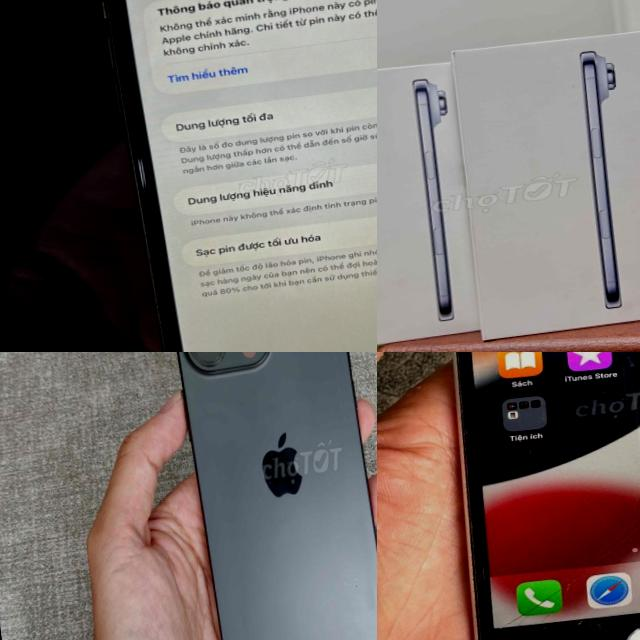physical_damage: (443, 368, 640, 640)
